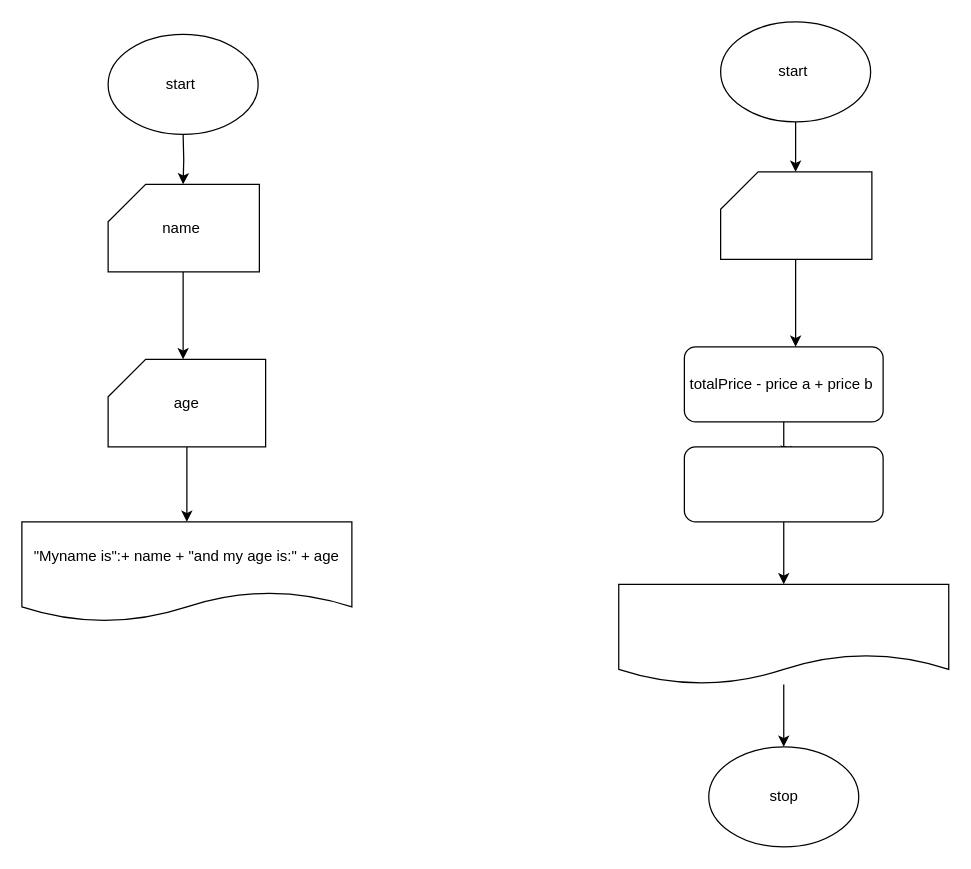
The diagram is 971 pixels wide and 869 high, and some of its shapes have lost their labels. The shapes that lost their labels are listed below. From the top down, each one's centre as x and y in pixels, then its label:
At (x=795, y=215): "price a , price b".
At (x=783, y=484): "avg = totalPrice / 2".
At (x=783, y=633): "avg".
